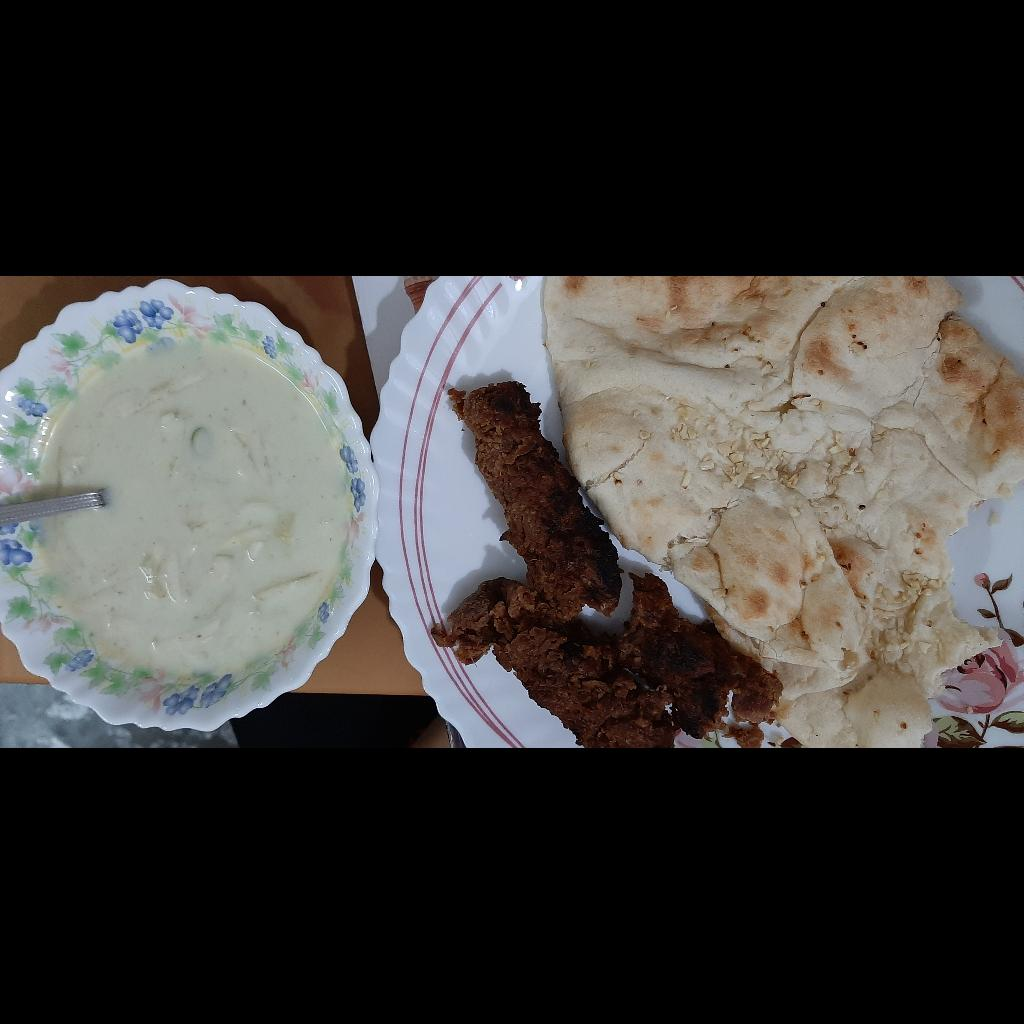beef: (0, 703, 367, 1024)
payesh: (66, 315, 411, 633)
ruti: (88, 817, 472, 1024)
